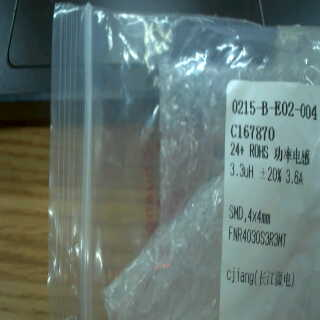3.3uH: (226, 156, 257, 186)
